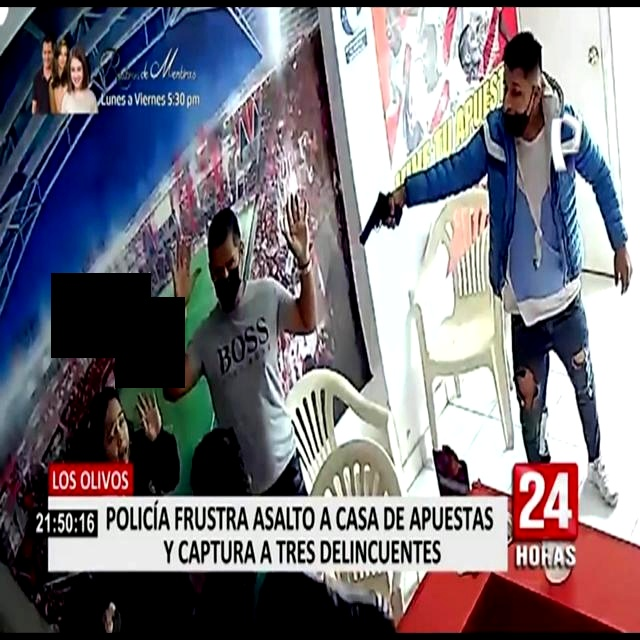gun: (355, 167, 406, 260)
